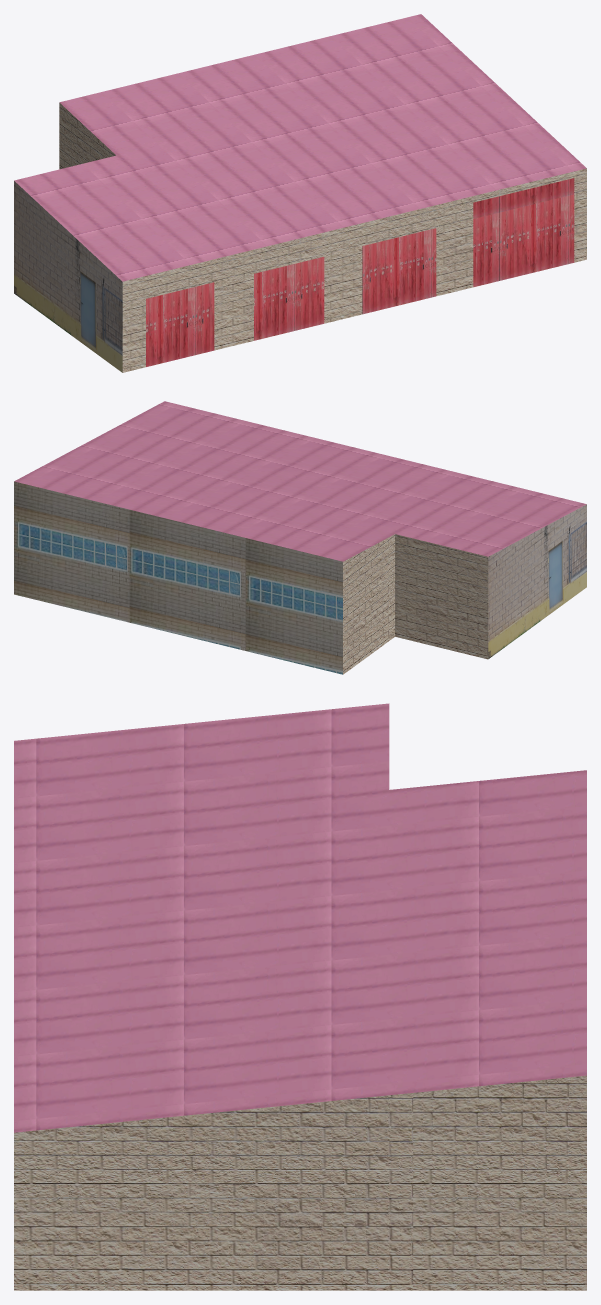
File: LecuFireStation.gltf
3 views of the same model, one above another, from view 1: azimuth 30°, elevation 25°; view 2: azimuth 150°, elevation 25°; view 3: azimuth 270°, elevation 25° (orthographic). The views are drawn at different scales.
Parts seen in each view (by area): view 1: bomberos_1; view 2: bomberos_1; view 3: bomberos_1.
Boxes of the visible parts, left/top/right/bottom form: bomberos_1: left=14, top=14, right=586, bottom=372; bomberos_1: left=14, top=401, right=586, bottom=674; bomberos_1: left=14, top=703, right=586, bottom=1290.
Bounding box in the file's own units: 16 × 4.09 × 9.89.
